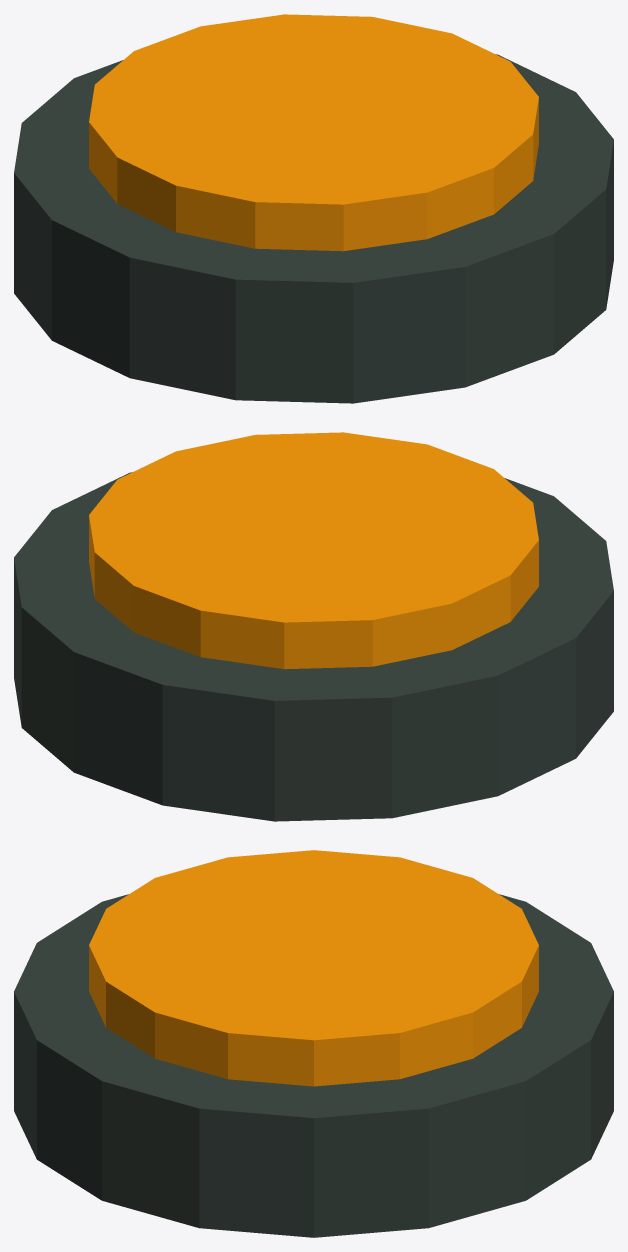
Rendered from signal-orange.glb.
3 renders of one model, top to bottom at view 1: azimuth 30°, elevation 25°; view 2: azimuth 150°, elevation 25°; view 3: azimuth 270°, elevation 25°, orthographic.
Parts seen in each view (by area): view 1: Signal base, Signal lens; view 2: Signal base, Signal lens; view 3: Signal base, Signal lens.
Boxes of the visible parts, left/top/right/bottom form: Signal base: left=14, top=54, right=613, bottom=403; Signal lens: left=89, top=14, right=538, bottom=251; Signal base: left=14, top=472, right=613, bottom=821; Signal lens: left=89, top=432, right=538, bottom=669; Signal base: left=14, top=894, right=613, bottom=1237; Signal lens: left=89, top=850, right=538, bottom=1086.
Size of the model in its own units: 0.2 by 0.061 by 0.2.
